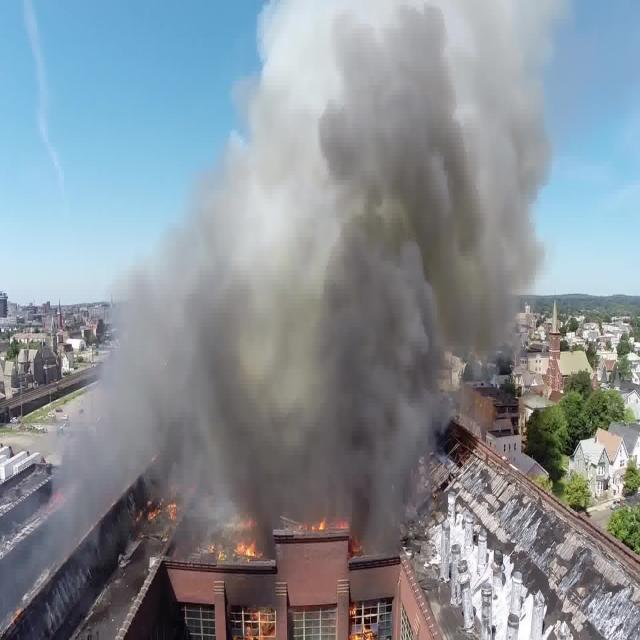Fire: (138, 456, 392, 639)
Smoke: (69, 0, 566, 572)
